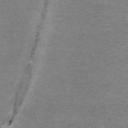finishing roll printing: (8, 64, 32, 126), (28, 0, 48, 60)
